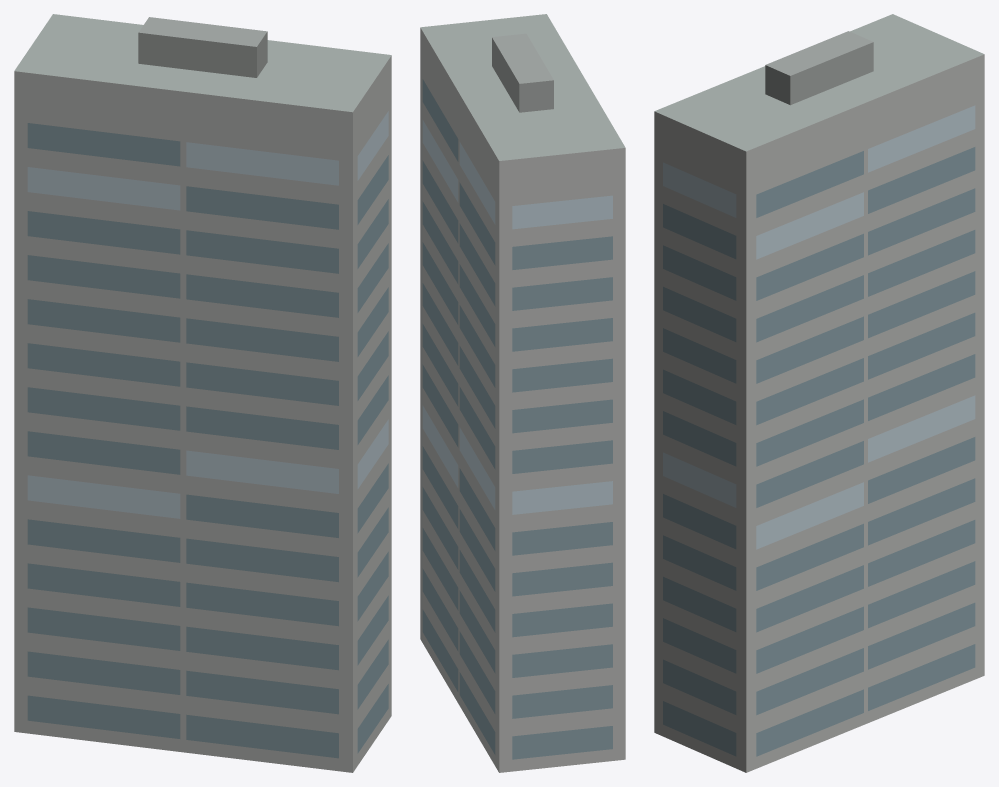
The model's file is fallback-dmc-parkview-xi-304.glb.
3 renders of one model, left to right at view 1: azimuth 30°, elevation 25°; view 2: azimuth 150°, elevation 25°; view 3: azimuth 270°, elevation 25°, orthographic. The views are drawn at different scales.
Visible parts, largest first — view 1: fallback-dmc-parkview-xi-304; view 2: fallback-dmc-parkview-xi-304; view 3: fallback-dmc-parkview-xi-304.
Part boxes in pixels (bbox=[...]): fallback-dmc-parkview-xi-304: bbox=[14, 14, 391, 772]; fallback-dmc-parkview-xi-304: bbox=[420, 14, 625, 772]; fallback-dmc-parkview-xi-304: bbox=[654, 14, 984, 772].
Size of the model in its own units: 19.95 by 44 by 20.25.
